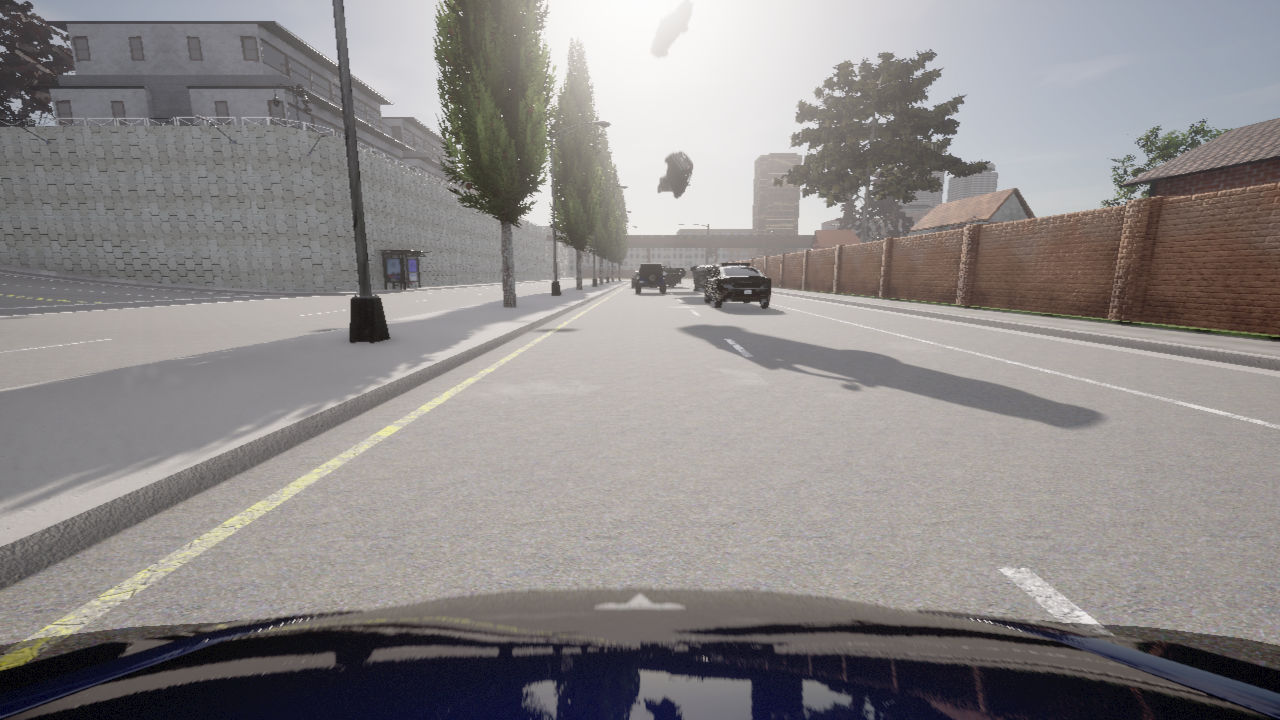cyclist: (0, 588, 1279, 719), (704, 263, 771, 307), (650, 0, 693, 58), (663, 151, 692, 198), (635, 263, 665, 293), (690, 264, 722, 290), (662, 266, 686, 287), (657, 174, 671, 193), (631, 271, 638, 287), (678, 280, 680, 283)
pedestrian: (753, 265, 754, 266)
